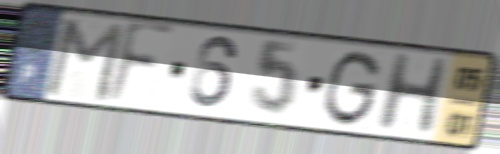5: (250, 37, 302, 123)
6: (188, 33, 241, 114)
F: (102, 17, 178, 109)
G: (320, 48, 384, 129)
H: (371, 50, 453, 135)
M: (42, 16, 128, 105)
